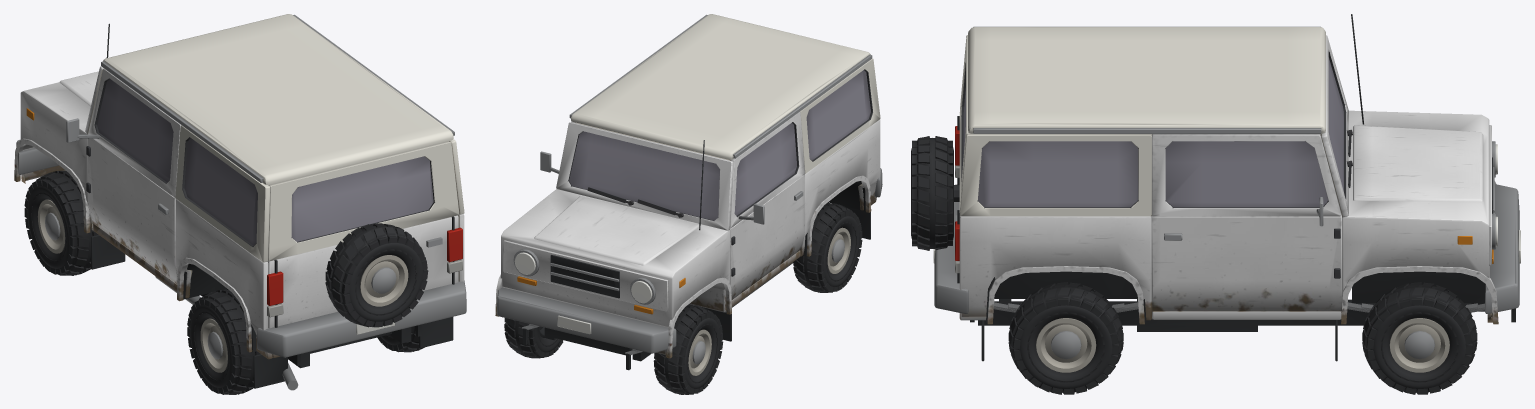
File: bronc.glb
3 renders of one model, left to right at view 1: azimuth 30°, elevation 25°; view 2: azimuth 150°, elevation 25°; view 3: azimuth 270°, elevation 25°, orthographic. The views are drawn at different scales.
Visible parts, largest first — view 1: body, door_FL, wheel_FL, wheel_RL, wheel_RR; view 2: body, door_FL, wheel_FL, wheel_RL, wheel_FR; view 3: body, door_FR, wheel_RR, wheel_FR.
Part boxes in pixels (<box>): body: <box>14,14,466,390</box>; door_FL: <box>66,68,181,283</box>; wheel_FL: <box>24,171,98,275</box>; wheel_RL: <box>187,290,260,394</box>; wheel_RR: <box>377,326,424,352</box>; body: <box>495,14,882,370</box>; door_FL: <box>730,112,804,299</box>; wheel_FL: <box>653,305,723,394</box>; wheel_RL: <box>793,203,862,292</box>; wheel_FR: <box>504,318,563,358</box>; body: <box>911,14,1520,361</box>; door_FR: <box>1152,134,1341,311</box>; wheel_RR: <box>1008,282,1123,394</box>; wheel_FR: <box>1362,282,1477,394</box>.
Bounding box in the file's own units: 2.17 × 2.12 × 4.03.
17 materials, 1 textured.
